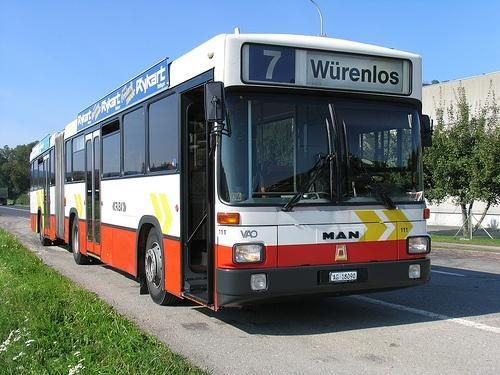bus: (33, 30, 433, 312)
